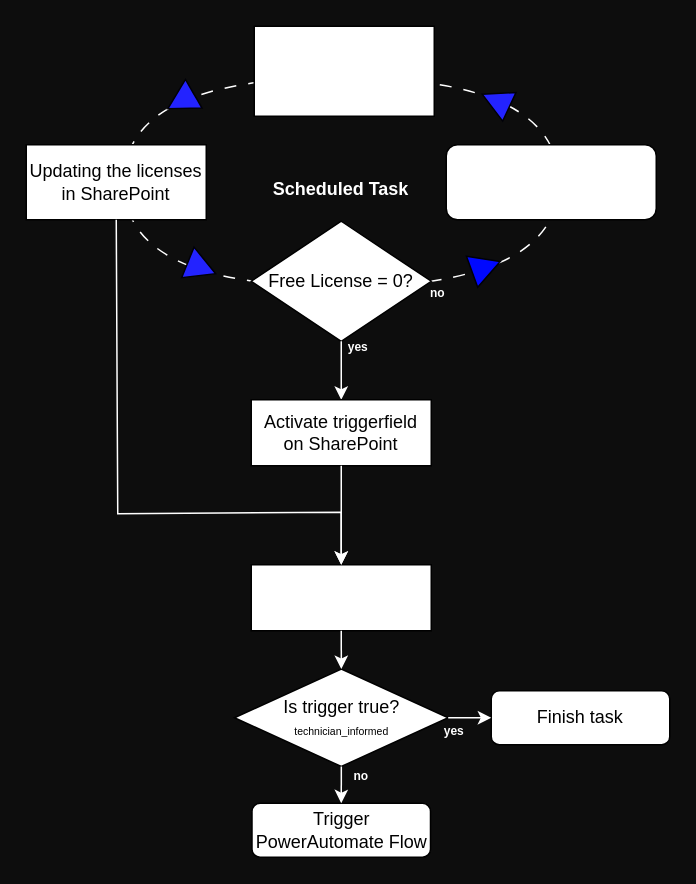
Some shapes in this 696 by 884 pixel diagram are drawn without their labels. The shapes that lost their labels are listed below. From the top down, each one's centre as x and y in pixels, then its label:
At (x=343, y=70): "Get licenses foreach registered tenant".
At (x=550, y=181): "Get config-profiles of the registered tenants".
At (x=340, y=597): "Write down all entries in SharePoint".
